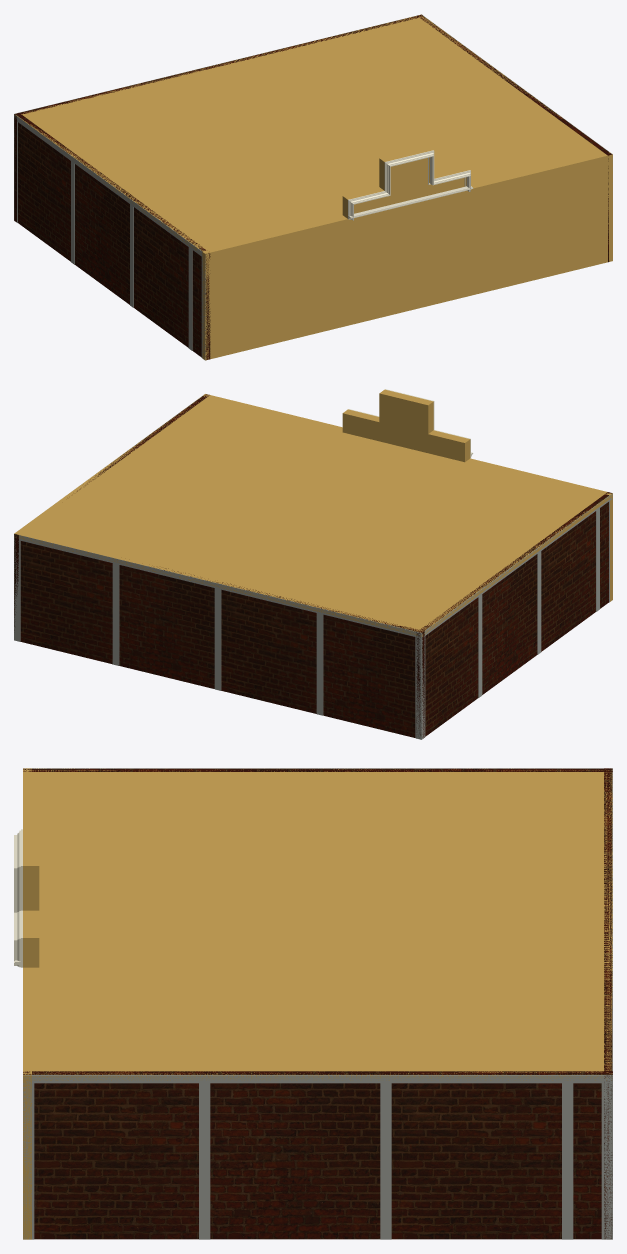
File: building.glb
3 renders of one model, top to bottom at view 1: azimuth 30°, elevation 25°; view 2: azimuth 150°, elevation 25°; view 3: azimuth 270°, elevation 25°, orthographic. The views are drawn at different scales.
Parts seen in each view (by area): view 1: roof/house:0/roof_slab#0001, house:0/edge0/z0/house:0/edge0/z0/wall_0_0, house:0/edge3/z0/house:0/edge3/z0/wall_0_0, crown/coronamiento/crown_body#0001, house:0/edge2/z0/house:0/edge2/z0/wall_0_0, crown/coronamiento/crown_moulding#0001, house:0/edge3/z0/house:0/edge3/z0/beam_0_0, house:0/edge1/z0/house:0/edge1/z0/wall_0_0, crown/coronamiento/crown_base_cornice#0001, house:0/edge3/z0/house:0/edge3/z0/column_4_0; view 2: roof/house:0/roof_slab#0001, house:0/edge2/z0/house:0/edge2/z0/wall_0_0, house:0/edge3/z0/house:0/edge3/z0/wall_0_0, crown/coronamiento/crown_body#0001, house:0/edge2/z0/house:0/edge2/z0/beam_0_0, house:0/edge0/z0/house:0/edge0/z0/wall_0_0, house:0/edge3/z0/house:0/edge3/z0/beam_0_0, house:0/edge1/z0/house:0/edge1/z0/wall_0_0, house:0/edge2/z0/house:0/edge2/z0/column_2_0, house:0/edge2/z0/house:0/edge2/z0/column_3_0, house:0/edge2/z0/house:0/edge2/z0/column_4_0, house:0/edge2/z0/house:0/edge2/z0/column_1_0 (+3 smaller); view 3: roof/house:0/roof_slab#0001, house:0/edge1/z0/house:0/edge1/z0/wall_0_0, house:0/edge1/z0/house:0/edge1/z0/beam_0_0, house:0/edge2/z0/house:0/edge2/z0/wall_0_0, house:0/edge0/z0/house:0/edge0/z0/wall_0_0, house:0/edge3/z0/house:0/edge3/z0/wall_0_0, crown/coronamiento/crown_body#0001, house:0/edge1/z0/house:0/edge1/z0/column_1_0, house:0/edge1/z0/house:0/edge1/z0/column_2_0, house:0/edge1/z0/house:0/edge1/z0/column_3_0, house:0/edge1/z0/house:0/edge1/z0/column_4_0, house:0/edge1/z0/house:0/edge1/z0/column_0_0 (+1 smaller).
Part boxes in pixels (left/top/right/bottom): roof/house:0/roof_slab#0001: left=15, top=15, right=612, bottom=257; house:0/edge0/z0/house:0/edge0/z0/wall_0_0: left=202, top=152, right=612, bottom=360; house:0/edge3/z0/house:0/edge3/z0/wall_0_0: left=16, top=113, right=210, bottom=359; crown/coronamiento/crown_body#0001: left=342, top=146, right=468, bottom=217; house:0/edge2/z0/house:0/edge2/z0/wall_0_0: left=14, top=14, right=422, bottom=222; crown/coronamiento/crown_moulding#0001: left=348, top=150, right=470, bottom=220; house:0/edge3/z0/house:0/edge3/z0/beam_0_0: left=14, top=114, right=205, bottom=258; house:0/edge1/z0/house:0/edge1/z0/wall_0_0: left=417, top=15, right=612, bottom=262; crown/coronamiento/crown_base_cornice#0001: left=348, top=186, right=473, bottom=219; house:0/edge3/z0/house:0/edge3/z0/column_4_0: left=188, top=247, right=192, bottom=350; roof/house:0/roof_slab#0001: left=14, top=395, right=612, bottom=636; house:0/edge2/z0/house:0/edge2/z0/wall_0_0: left=20, top=541, right=424, bottom=738; house:0/edge3/z0/house:0/edge3/z0/wall_0_0: left=416, top=492, right=612, bottom=738; crown/coronamiento/crown_body#0001: left=342, top=390, right=469, bottom=462; house:0/edge2/z0/house:0/edge2/z0/beam_0_0: left=19, top=535, right=421, bottom=638; house:0/edge0/z0/house:0/edge0/z0/wall_0_0: left=203, top=394, right=612, bottom=601; house:0/edge3/z0/house:0/edge3/z0/beam_0_0: left=421, top=493, right=612, bottom=637; house:0/edge1/z0/house:0/edge1/z0/wall_0_0: left=14, top=394, right=209, bottom=630; house:0/edge2/z0/house:0/edge2/z0/column_2_0: left=112, top=563, right=119, bottom=665; house:0/edge2/z0/house:0/edge2/z0/column_3_0: left=214, top=588, right=221, bottom=690; house:0/edge2/z0/house:0/edge2/z0/column_4_0: left=316, top=613, right=323, bottom=715; house:0/edge2/z0/house:0/edge2/z0/column_1_0: left=415, top=637, right=421, bottom=739; roof/house:0/roof_slab#0001: left=23, top=768, right=612, bottom=1080; house:0/edge1/z0/house:0/edge1/z0/wall_0_0: left=23, top=1071, right=612, bottom=1239; house:0/edge1/z0/house:0/edge1/z0/beam_0_0: left=23, top=1075, right=612, bottom=1083; house:0/edge2/z0/house:0/edge2/z0/wall_0_0: left=604, top=768, right=612, bottom=1238; house:0/edge0/z0/house:0/edge0/z0/wall_0_0: left=23, top=768, right=31, bottom=1239; house:0/edge3/z0/house:0/edge3/z0/wall_0_0: left=23, top=768, right=612, bottom=771; crown/coronamiento/crown_body#0001: left=25, top=829, right=39, bottom=967; house:0/edge1/z0/house:0/edge1/z0/column_1_0: left=601, top=1083, right=612, bottom=1239; house:0/edge1/z0/house:0/edge1/z0/column_2_0: left=199, top=1083, right=210, bottom=1239; house:0/edge1/z0/house:0/edge1/z0/column_3_0: left=380, top=1083, right=391, bottom=1239; house:0/edge1/z0/house:0/edge1/z0/column_4_0: left=562, top=1083, right=573, bottom=1239; house:0/edge1/z0/house:0/edge1/z0/column_0_0: left=23, top=1083, right=34, bottom=1239.
Size of the model in its own units: 16 by 5.8 by 13.2.
4 materials, 1 textured.
